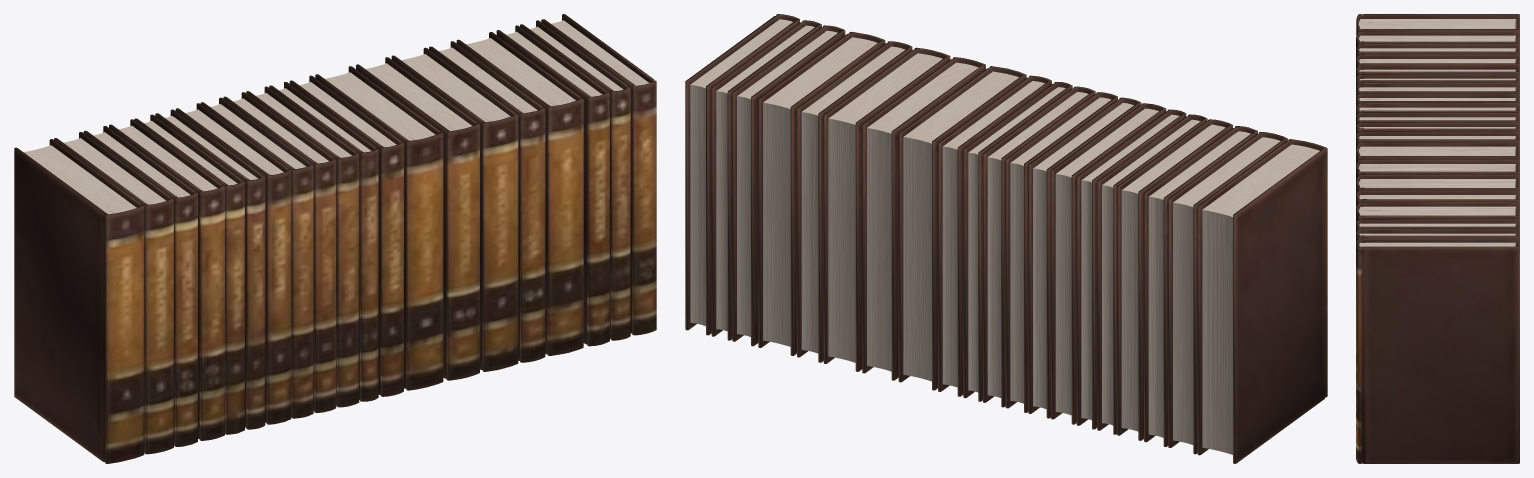
Rendered from book_encyclopedia_set_01.glb.
The picture shows the model from 3 angles, left to right: view 1: azimuth 30°, elevation 25°; view 2: azimuth 150°, elevation 25°; view 3: azimuth 270°, elevation 25°; orthographic projection. The views are drawn at different scales.
Visible parts, largest first — view 1: book_encyclopedia_set_01_book01; view 2: book_encyclopedia_set_01_book01; view 3: book_encyclopedia_set_01_book01.
Part boxes in pixels (left/top/right/bottom): book_encyclopedia_set_01_book01: left=14, top=14, right=656, bottom=463; book_encyclopedia_set_01_book01: left=685, top=14, right=1327, bottom=463; book_encyclopedia_set_01_book01: left=1356, top=14, right=1519, bottom=463.
Bounding box in the file's own units: 0.5513 × 0.2374 × 0.1631.
2 materials, 2 textured.
